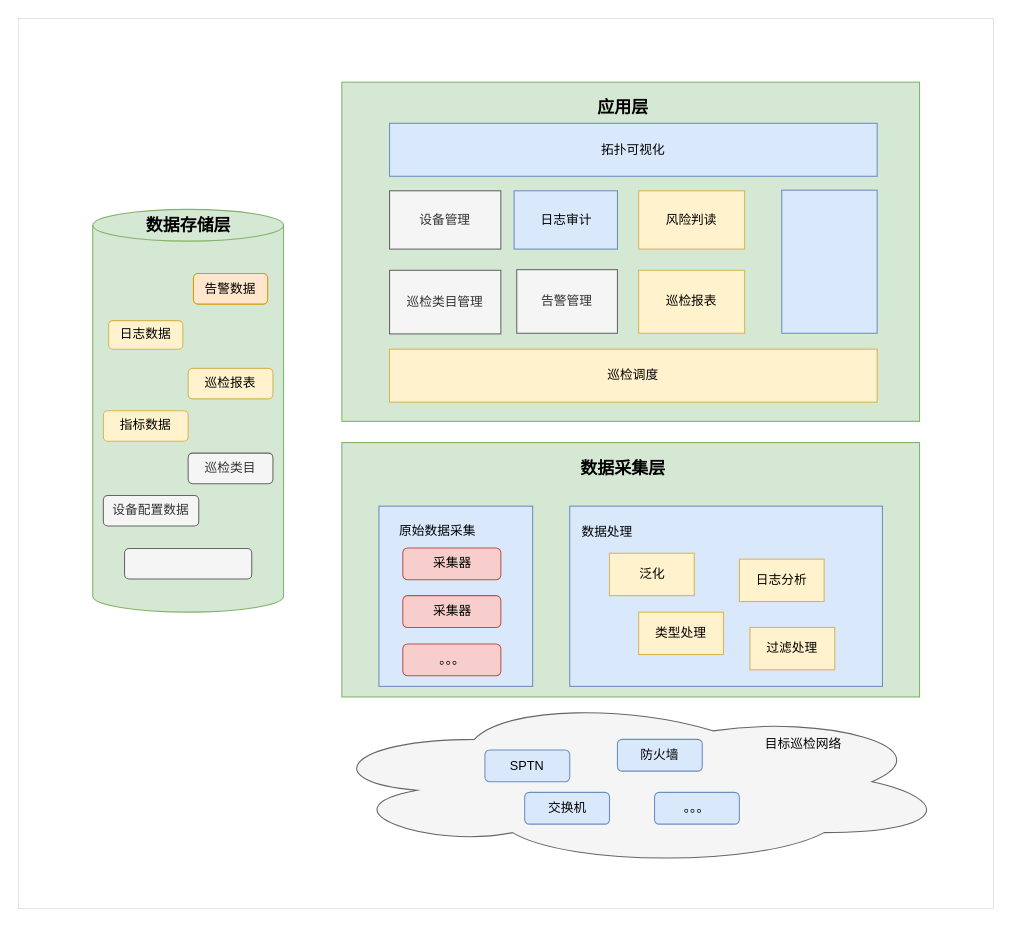
This 1011x926 diagram has some shape labels left out. The shapes that lost their labels are listed below. From the top down, each one's box as (x1, y1, x2, y2) in pixels, then its label:
(781, 189, 877, 333): 链 路 管 理
(123, 547, 252, 579): 其它业务配置数据
